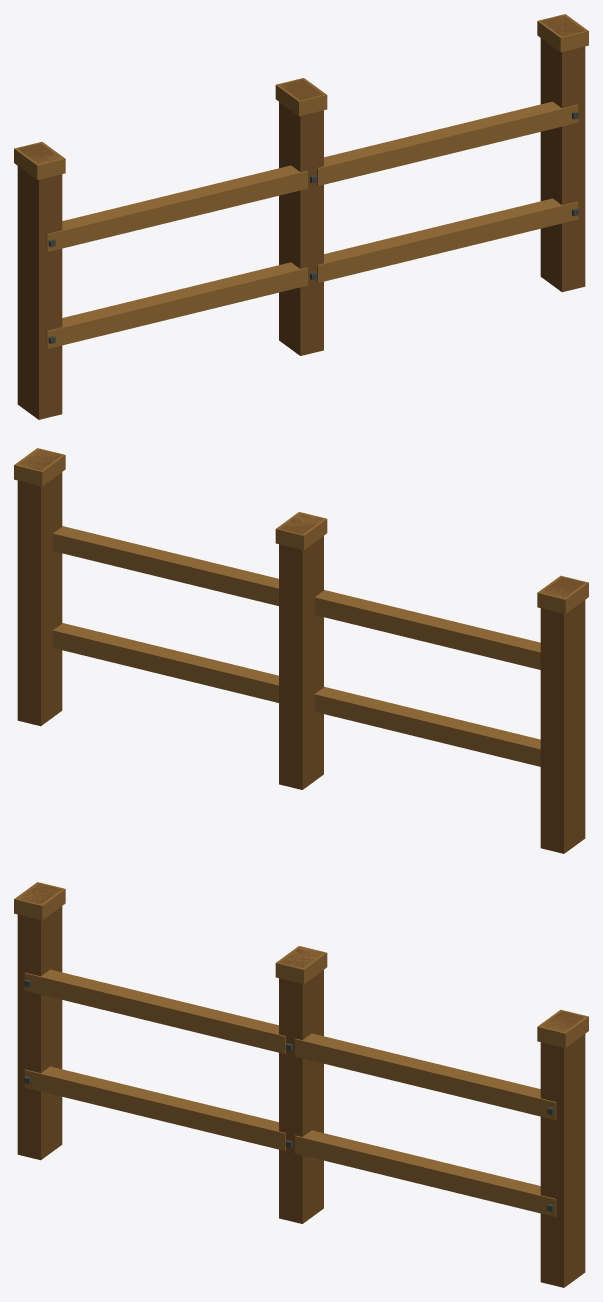
The model's file is SM_DC_Fence_Half.fbx.
3 renders of one model, top to bottom at view 1: azimuth 30°, elevation 25°; view 2: azimuth 150°, elevation 25°; view 3: azimuth 330°, elevation 25°, orthographic.
Visible parts, largest first — view 1: SM_DC_Fence_Half; view 2: SM_DC_Fence_Half; view 3: SM_DC_Fence_Half.
Part boxes in pixels (<box>): SM_DC_Fence_Half: <box>14,14,588,419</box>; SM_DC_Fence_Half: <box>14,448,588,853</box>; SM_DC_Fence_Half: <box>14,882,588,1287</box>.
Bounding box in the file's own units: 2.8 × 0.22 × 1.24.
